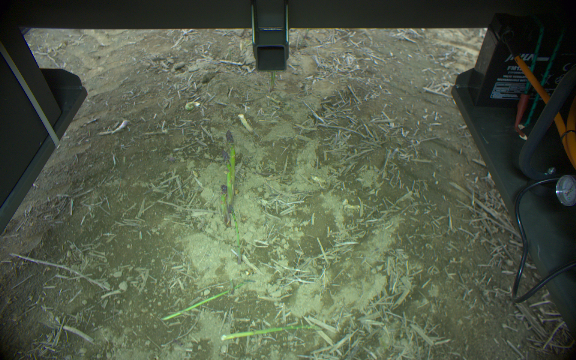aspa: (159, 278, 257, 326), (218, 320, 326, 346), (230, 209, 244, 267), (225, 129, 241, 178), (217, 184, 230, 222), (222, 154, 235, 181)
